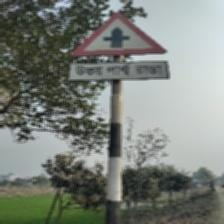Crossroad: (68, 11, 170, 84)
